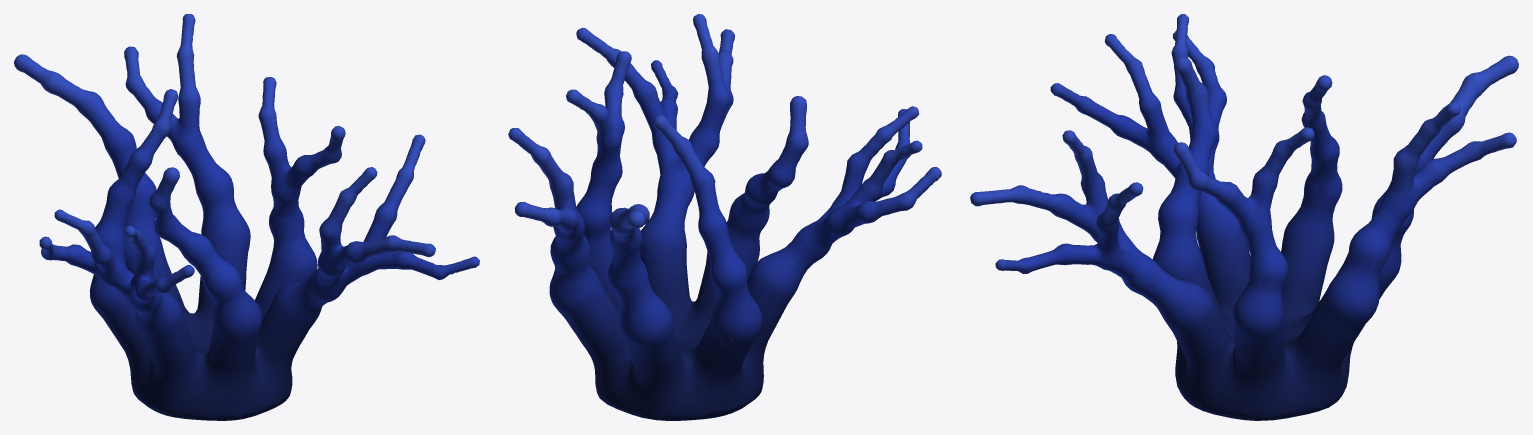
File: coral.glb
3 renders of one model, left to right at view 1: azimuth 30°, elevation 25°; view 2: azimuth 150°, elevation 25°; view 3: azimuth 270°, elevation 25°, orthographic. The views are drawn at different scales.
Parts seen in each view (by area): view 1: Coral; view 2: Coral; view 3: Coral.
Part boxes in pixels (x1,y1,x2,y2): Coral: (14, 14, 479, 420); Coral: (508, 14, 941, 420); Coral: (970, 14, 1518, 420).
Bounding box in the file's own units: 0.6455 × 0.4959 × 0.78.
Materials: 1 (1 with a texture image).
